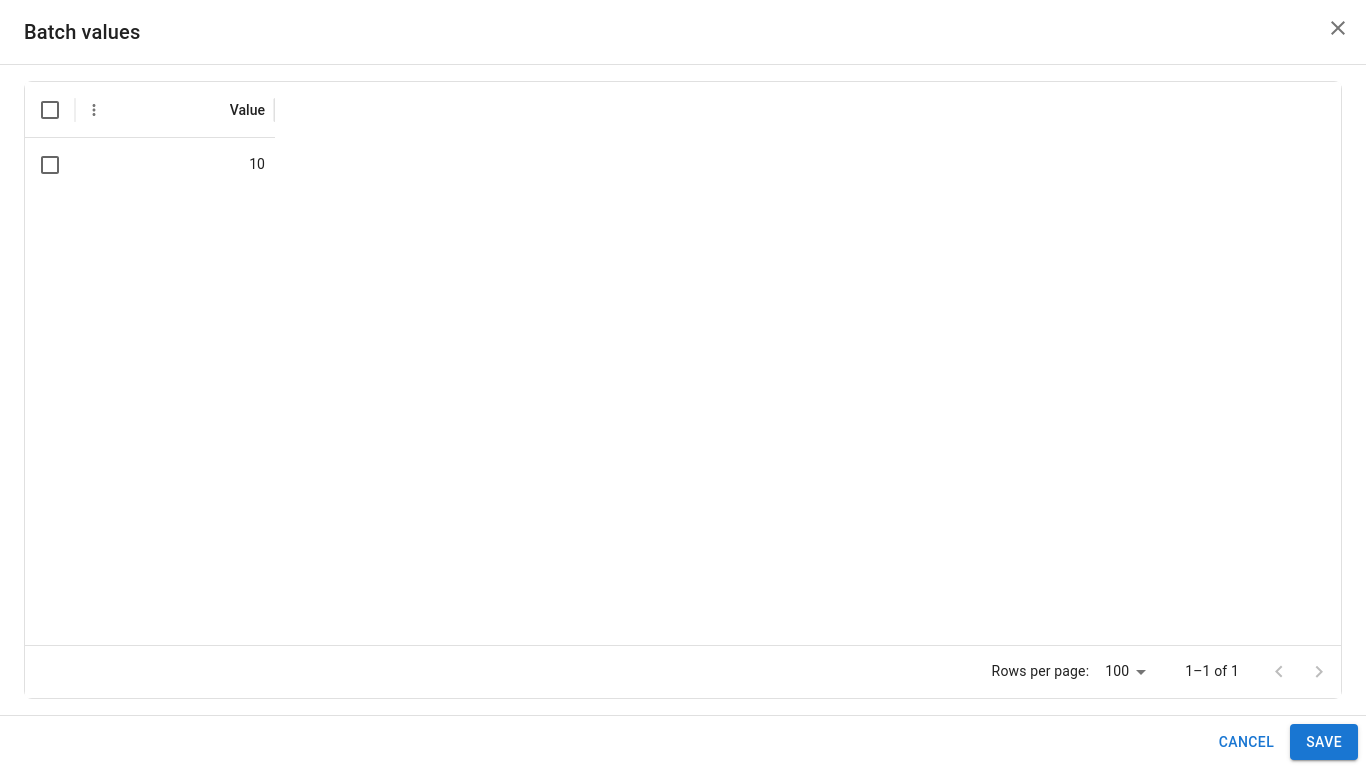
Scenario: BatchEntityDialog › protects pending number values and compares dates by value
This screenshot has width=1366, height=768.
Double-click the cell "10" at (257,164), box [249,156,265,172]
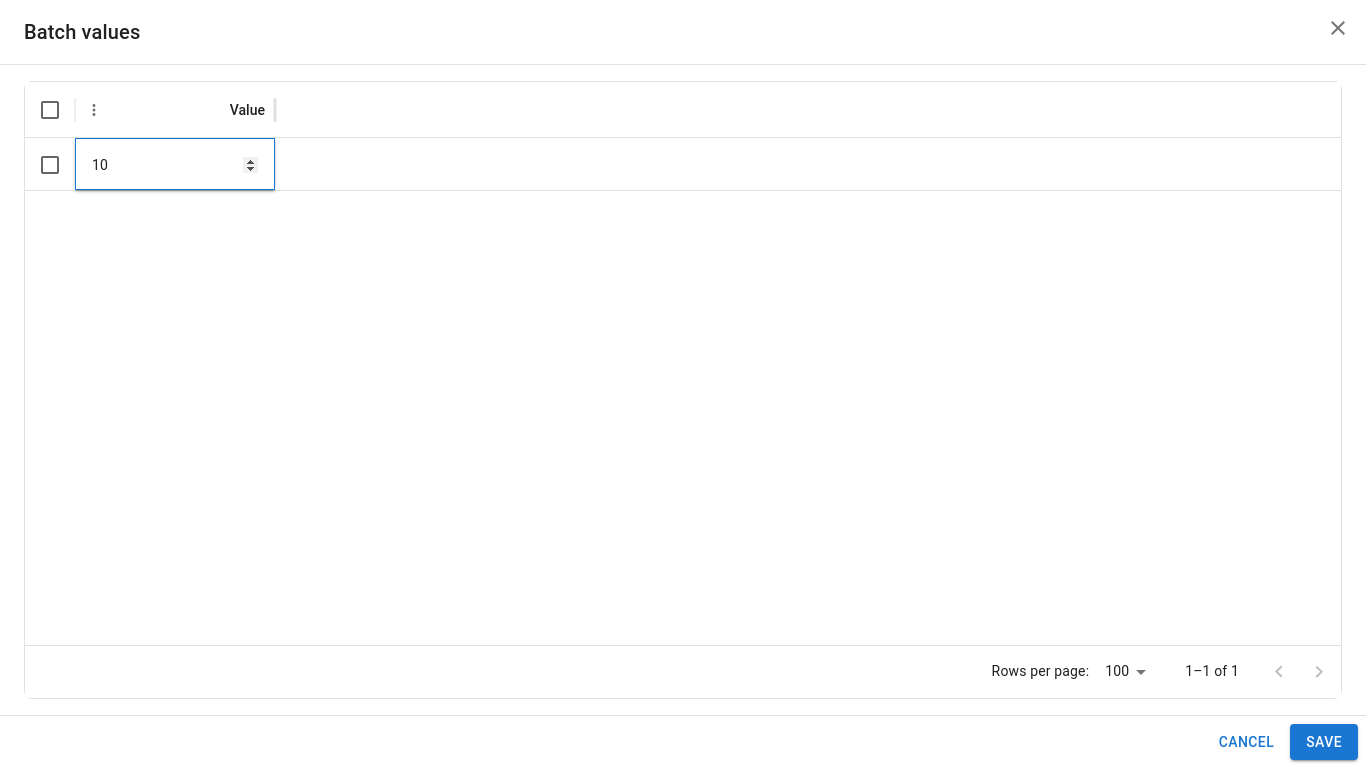
Replace the text in the number field with "20". click: (175,164)
box: [76,141,274,188]
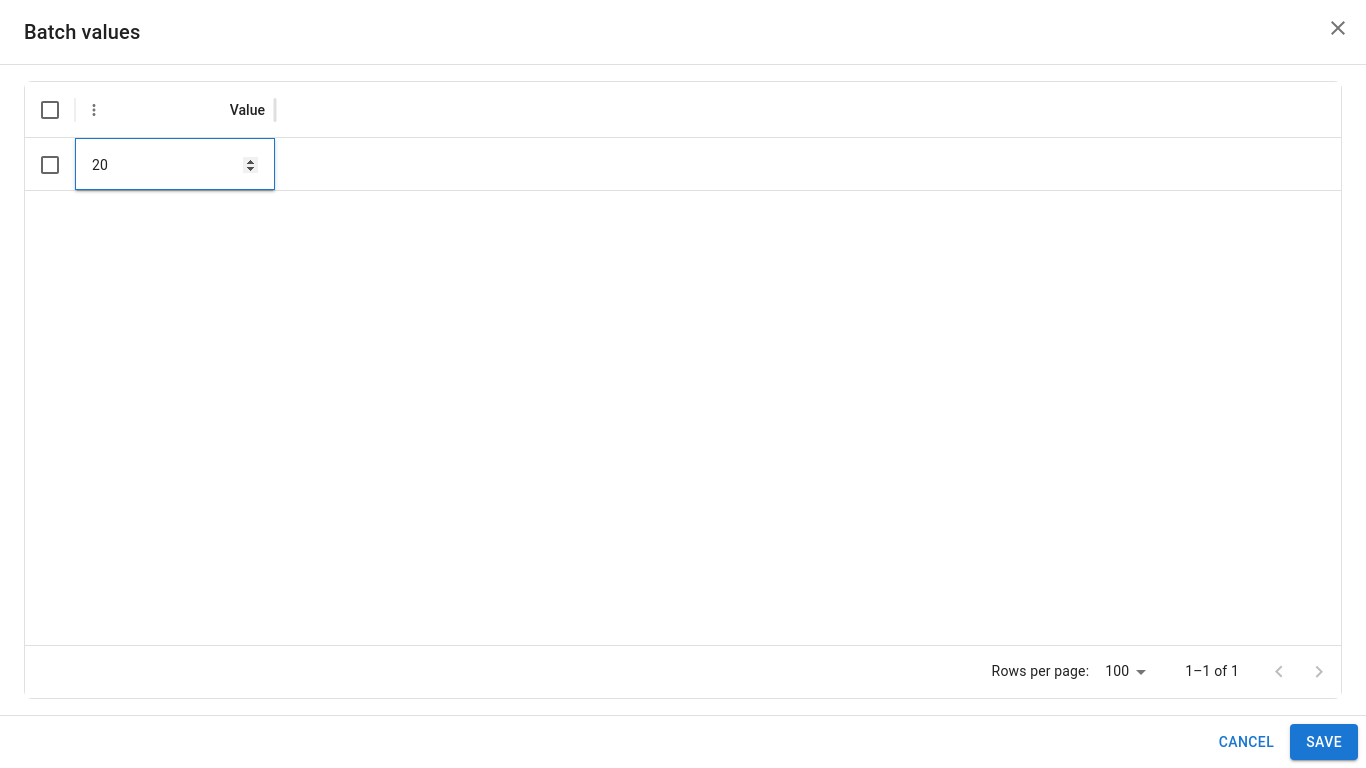
Press Escape in the number field, box [76,141,274,188]
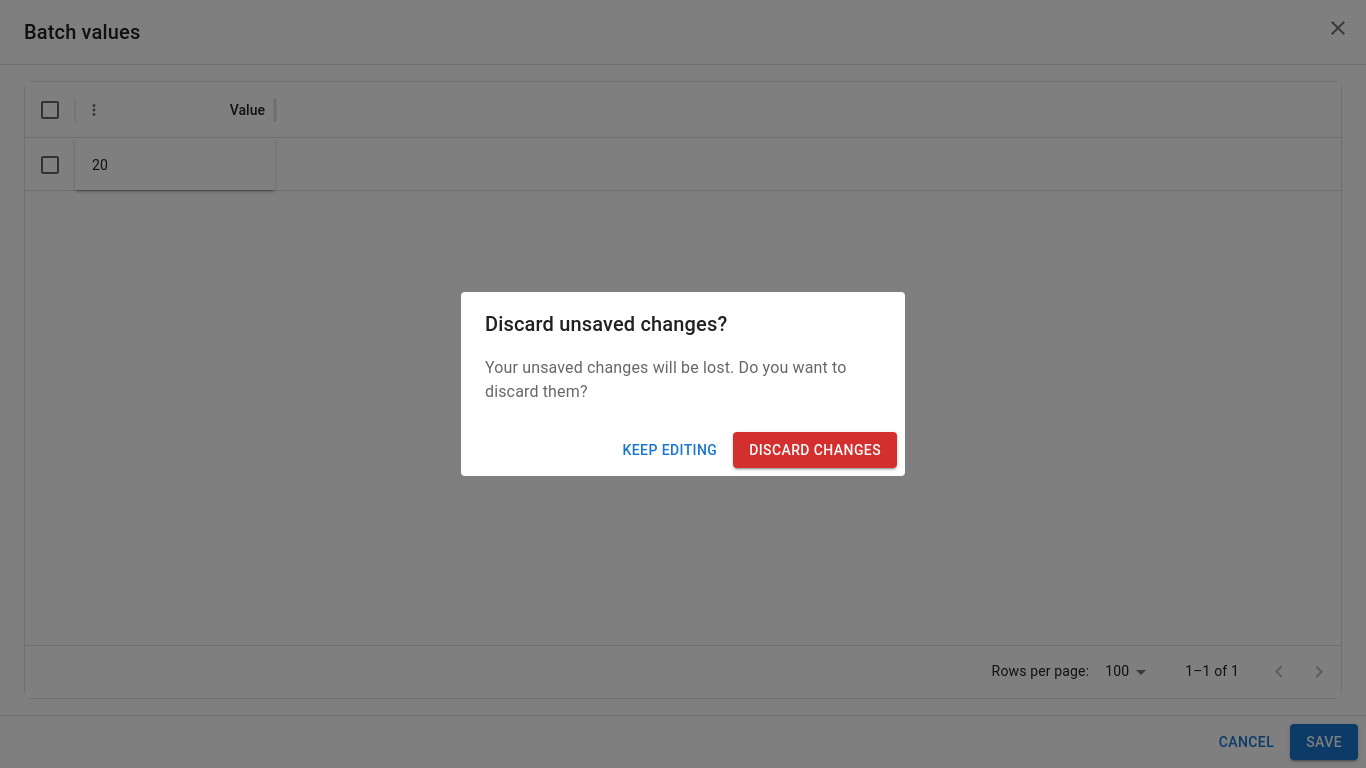
Click the button "Keep editing". click: (670,450)
box: [615,432,725,468]
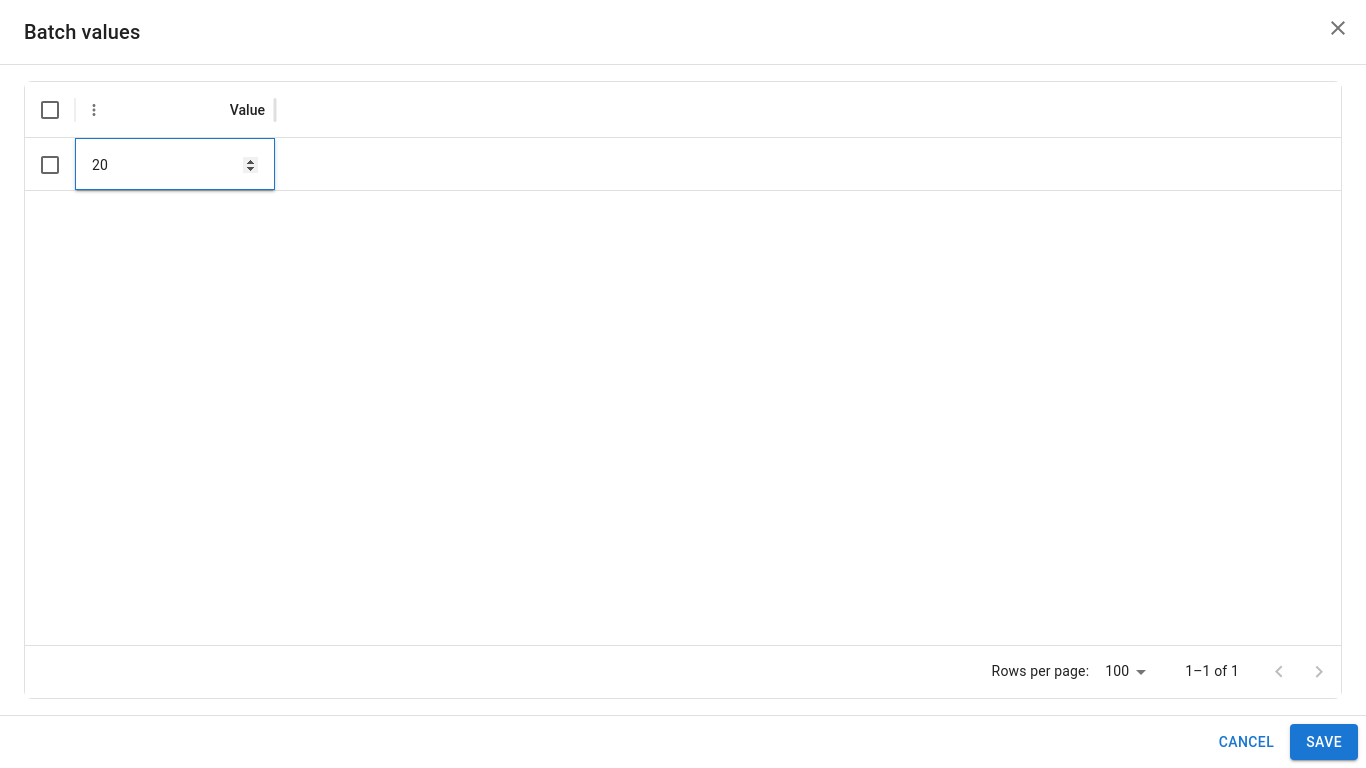
Expected: the heading "Discard unsaved changes?" is gone
